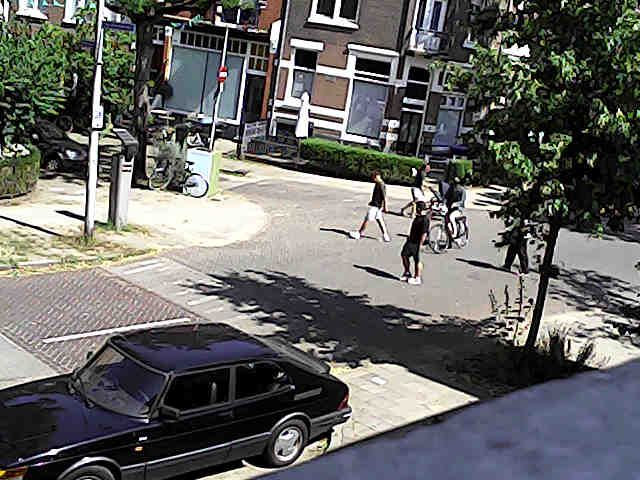male: (350, 171, 389, 241), (401, 201, 428, 284), (496, 219, 529, 273), (400, 163, 429, 217), (443, 177, 465, 239), (503, 225, 528, 273), (444, 177, 465, 210), (151, 80, 172, 108), (438, 180, 448, 198)
suv: (0, 324, 350, 479), (32, 120, 87, 172)
